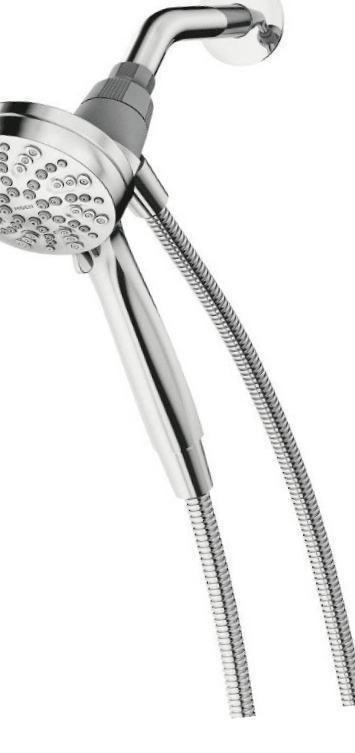Ducha: (0, 0, 354, 689)
